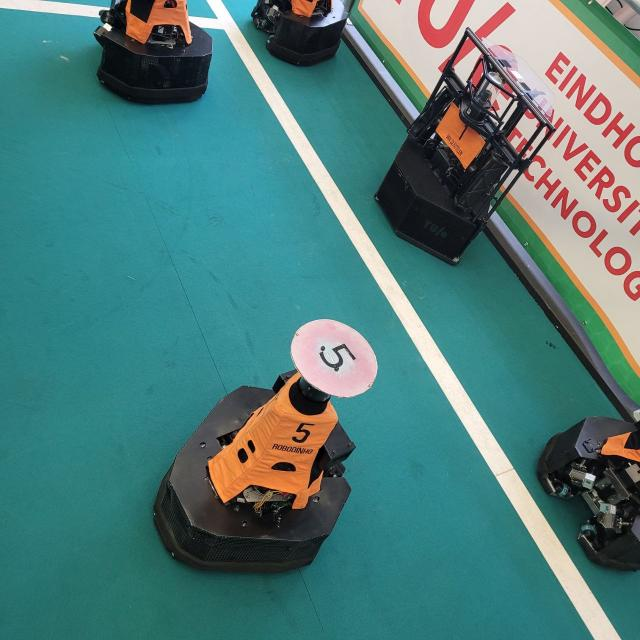Robots: (160, 298, 362, 582), (94, 0, 218, 103), (251, 0, 352, 62)
